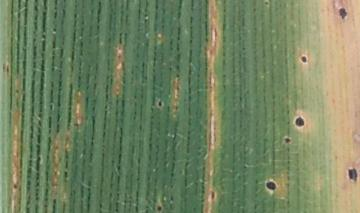tarspot: (292, 113, 307, 129), (347, 166, 360, 184), (264, 178, 278, 194), (337, 6, 350, 22), (299, 53, 309, 65), (209, 188, 217, 202), (155, 204, 165, 213), (283, 134, 291, 145), (12, 181, 20, 192), (155, 100, 164, 109)
